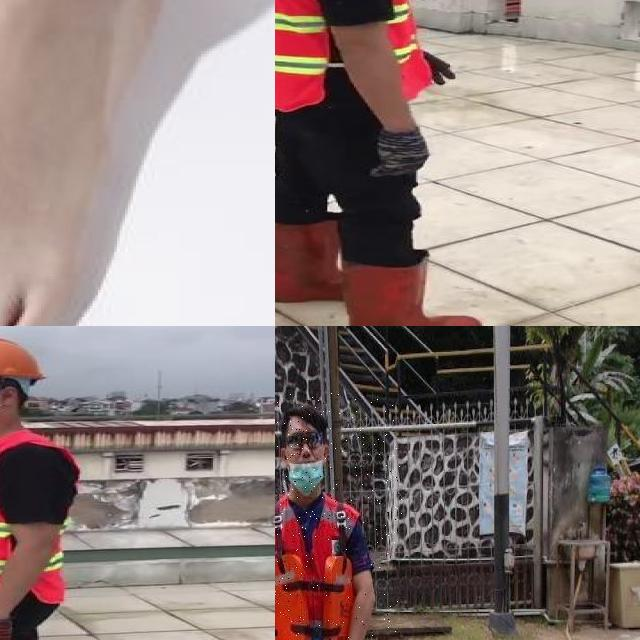Barefoots: (0, 0, 167, 326)
boots: (341, 262, 487, 326), (275, 214, 346, 303)
hand_glove: (374, 129, 428, 176), (420, 40, 455, 85)
head_helmet: (0, 333, 46, 384)
person: (275, 0, 511, 326), (0, 336, 116, 640), (275, 393, 403, 640)
vest: (275, 494, 362, 640), (0, 435, 69, 605), (275, 0, 347, 110), (386, 0, 428, 101)
